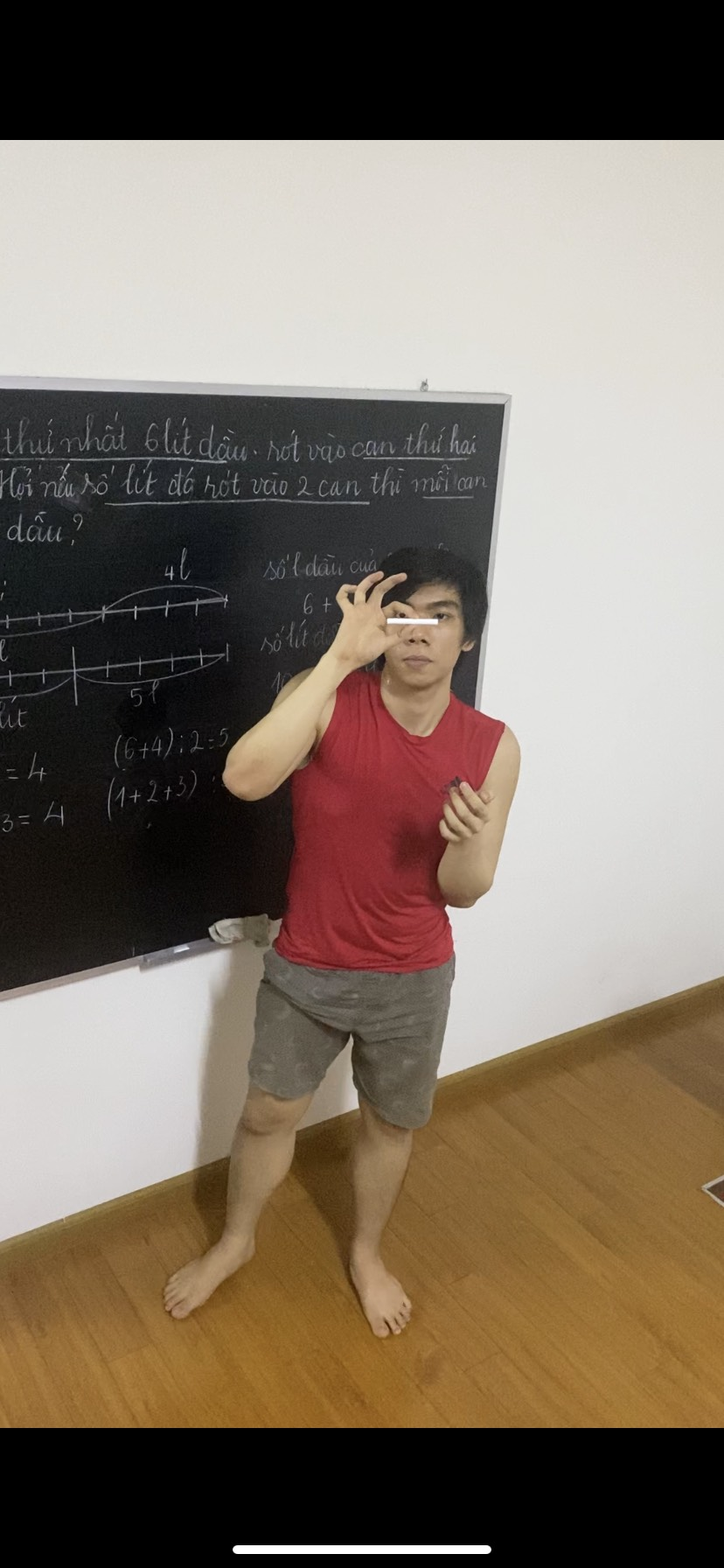cigarette: (383, 611, 441, 633)
person: (158, 530, 523, 1354)
